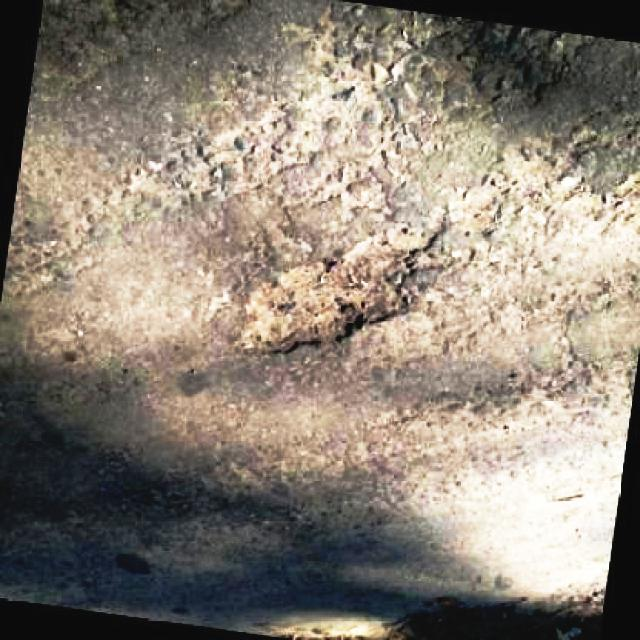pothole: (235, 212, 440, 354), (454, 146, 617, 268)
